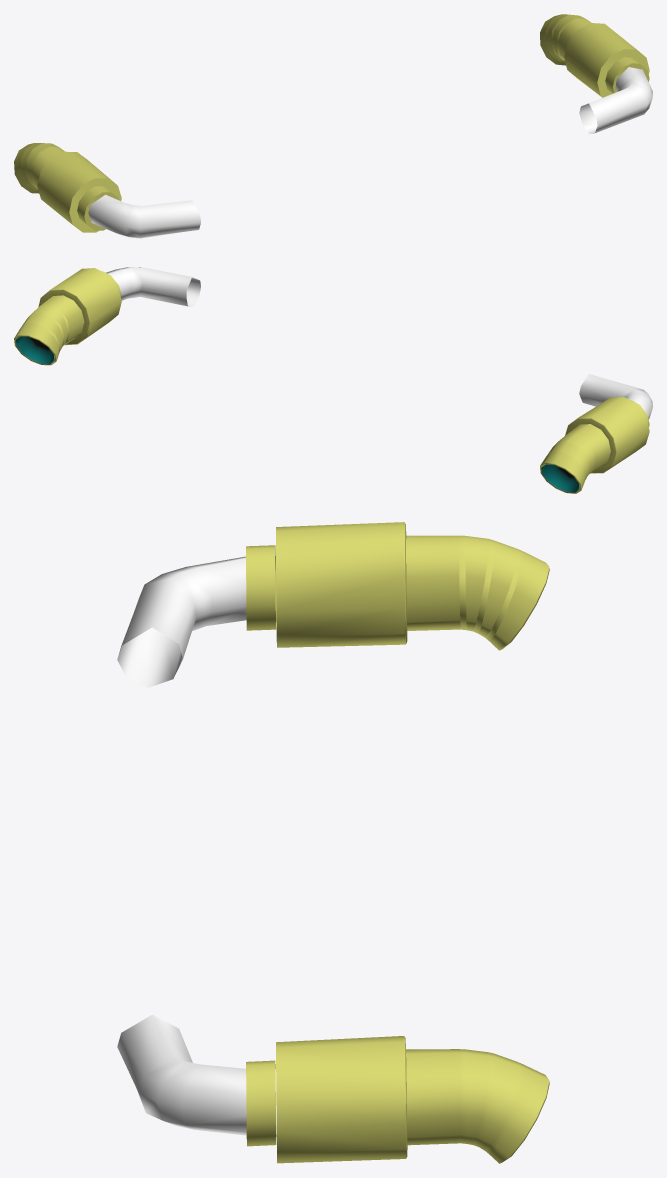
Rendered from Car_Mini_CountrymanJCW_2017_Exhausts_SetFE.fbx.
3 views of the same model, one above another, from view 1: azimuth 30°, elevation 25°; view 2: azimuth 150°, elevation 25°; view 3: azimuth 270°, elevation 25° (orthographic). The views are drawn at different scales.
Visible parts, largest first — view 1: Exhausts 6; view 2: Exhausts 6; view 3: Exhausts 6.
Boxes of the visible parts, bbox=[...] form: Exhausts 6: bbox=[14, 14, 652, 238]; Exhausts 6: bbox=[14, 267, 652, 493]; Exhausts 6: bbox=[117, 522, 549, 1163].
Size of the model in its own units: 1.18 by 0.1143 by 0.3796.
